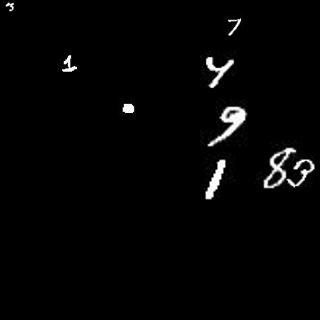dot: (120, 99, 139, 117)
eight: (263, 145, 293, 191)
nine: (206, 103, 249, 149)
one: (205, 159, 230, 200), (60, 53, 72, 76)
seven: (204, 56, 236, 89), (228, 15, 244, 36)
three: (286, 154, 318, 190), (3, 1, 16, 11)
